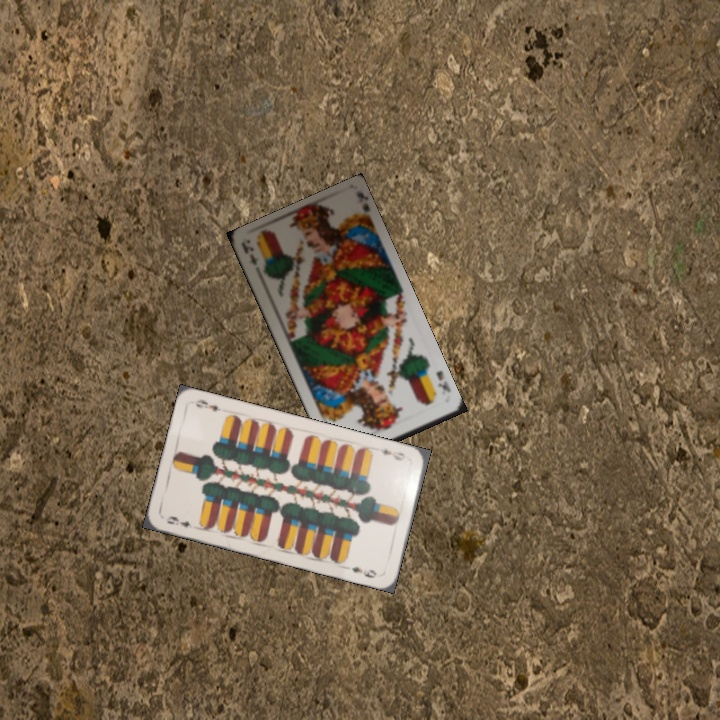E9: (161, 512, 194, 531), (376, 445, 408, 463)
EK: (238, 241, 260, 268), (432, 367, 453, 395)
